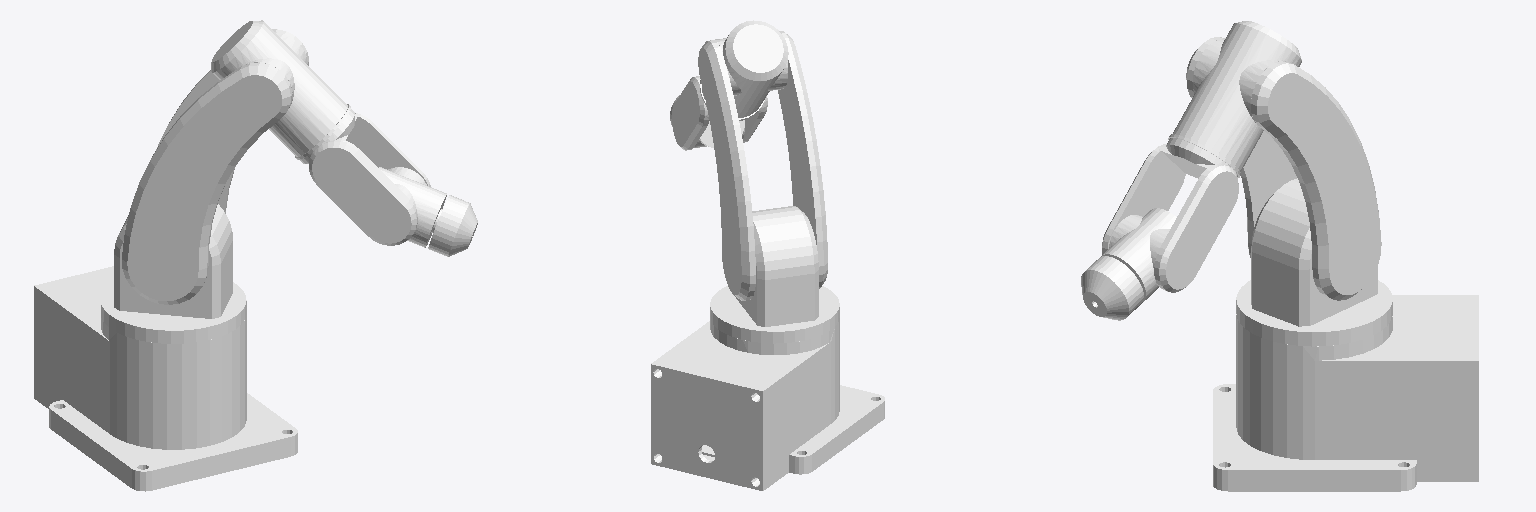
robot.urdf — ROBOT_URDF:
<?xml version="1.0" encoding="utf-8"?>
<!-- This URDF was automatically created by SolidWorks to URDF Exporter! Originally created by [author] ([email redacted]) 
     Commit Version: 1.6.0-4-g7f85cfe  Build Version: 1.6.7995.38578
     For more information, please see http://wiki.ros.org/sw_urdf_exporter -->
<robot
  name="ROBOT_URDF">
  <link
    name="base">
    <inertial>
      <origin
        xyz="1.0422E-11 0.017244 0.037691"
        rpy="0 0 0" />
      <mass
        value="0.90936" />
      <inertia
        ixx="0.0017282"
        ixy="8.0277E-15"
        ixz="-6.2768E-14"
        iyy="0.0017415"
        iyz="-0.00010385"
        izz="0.0020228" />
    </inertial>
    <visual>
      <origin
        xyz="0 0 0"
        rpy="0 0 0" />
      <geometry>
        <mesh
          filename="package://ROBOT_URDF/meshes/base.STL" />
      </geometry>
      <material
        name="">
        <color
          rgba="1 1 1 1" />
      </material>
    </visual>
    <collision>
      <origin
        xyz="0 0 0"
        rpy="0 0 0" />
      <geometry>
        <mesh
          filename="package://ROBOT_URDF/meshes/base.STL" />
      </geometry>
    </collision>
  </link>
  <link
    name="Link_2">
    <inertial>
      <origin
        xyz="7.6328E-16 2.2204E-16 -0.020342"
        rpy="0 0 0" />
      <mass
        value="0.24072" />
      <inertia
        ixx="0.00024778"
        ixy="-2.7105E-20"
        ixz="-1.1404E-19"
        iyy="0.00030718"
        iyz="-2.5065E-21"
        izz="0.00022315" />
    </inertial>
    <visual>
      <origin
        xyz="0 0 0"
        rpy="0 0 0" />
      <geometry>
        <mesh
          filename="package://ROBOT_URDF/meshes/Link_2.STL" />
      </geometry>
      <material
        name="">
        <color
          rgba="1 1 1 1" />
      </material>
    </visual>
    <collision>
      <origin
        xyz="0 0 0"
        rpy="0 0 0" />
      <geometry>
        <mesh
          filename="package://ROBOT_URDF/meshes/Link_2.STL" />
      </geometry>
    </collision>
  </link>
  <joint
    name="Joint_2"
    type="revolute">
    <origin
      xyz="0 0 0.145"
      rpy="0 0 -0.73283" />
    <parent
      link="base" />
    <child
      link="Link_2" />
    <axis
      xyz="0 0 1" />
    <limit
      lower="0"
      upper="3.142"
      effort="300"
      velocity="3" />
  </joint>
  <link
    name="link_3">
    <inertial>
      <origin
        xyz="0.02336 0 0.058621"
        rpy="0 0 0" />
      <mass
        value="0.3642" />
      <inertia
        ixx="0.0014574"
        ixy="8.6736E-19"
        ixz="-0.0005517"
        iyy="0.0015868"
        iyz="6.5052E-19"
        izz="0.00055628" />
    </inertial>
    <visual>
      <origin
        xyz="0 0 0"
        rpy="0 0 0" />
      <geometry>
        <mesh
          filename="package://ROBOT_URDF/meshes/link_3.STL" />
      </geometry>
      <material
        name="">
        <color
          rgba="1 1 1 1" />
      </material>
    </visual>
    <collision>
      <origin
        xyz="0 0 0"
        rpy="0 0 0" />
      <geometry>
        <mesh
          filename="package://ROBOT_URDF/meshes/link_3.STL" />
      </geometry>
    </collision>
  </link>
  <joint
    name="joint_3"
    type="revolute">
    <origin
      xyz="0 0 0"
      rpy="0 0 0" />
    <parent
      link="Link_2" />
    <child
      link="link_3" />
    <axis
      xyz="-0.44085 0 -0.89758" />
    <limit
      lower="-1.57"
      upper="1.57"
      effort="200"
      velocity="3" />
  </joint>
  <link
    name="link_4">
    <inertial>
      <origin
        xyz="-0.017956 -0.054327 -1.3201E-10"
        rpy="0 0 0" />
      <mass
        value="0.20146" />
      <inertia
        ixx="0.00020128"
        ixy="-3.8661E-05"
        ixz="2.4463E-11"
        iyy="9.7091E-05"
        iyz="6.9292E-13"
        izz="0.00019574" />
    </inertial>
    <visual>
      <origin
        xyz="0 0 0"
        rpy="0 0 0" />
      <geometry>
        <mesh
          filename="package://ROBOT_URDF/meshes/link_4.STL" />
      </geometry>
      <material
        name="">
        <color
          rgba="1 1 1 1" />
      </material>
    </visual>
    <collision>
      <origin
        xyz="0 0 0"
        rpy="0 0 0" />
      <geometry>
        <mesh
          filename="package://ROBOT_URDF/meshes/link_4.STL" />
      </geometry>
    </collision>
  </link>
  <joint
    name="joint_4"
    type="revolute">
    <origin
      xyz="0.066127 0 0.13464"
      rpy="1.5708 -1.1143 0" />
    <parent
      link="link_3" />
    <child
      link="link_4" />
    <axis
      xyz="0 0 -1" />
    <limit
      lower="0"
      upper="3.142"
      effort="200"
      velocity="3" />
  </joint>
  <link
    name="link_5">
    <inertial>
      <origin
        xyz="0.0252610664447827 -1.32936071206569E-07 6.91875431391153E-08"
        rpy="0 0 0" />
      <mass
        value="0.0578721071106408" />
      <inertia
        ixx="1.2416264581196E-05"
        ixy="-4.4449230122531E-11"
        ixz="9.64146459424786E-11"
        iyy="1.55457728243409E-05"
        iyz="-1.96601989915467E-10"
        izz="1.71122120219284E-05" />
    </inertial>
    <visual>
      <origin
        xyz="0 0 0"
        rpy="0 0 0" />
      <geometry>
        <mesh
          filename="package://ROBOT_URDF/meshes/link_5.STL" />
      </geometry>
      <material
        name="">
        <color
          rgba="1 1 1 1" />
      </material>
    </visual>
    <collision>
      <origin
        xyz="0 0 0"
        rpy="0 0 0" />
      <geometry>
        <mesh
          filename="package://ROBOT_URDF/meshes/link_5.STL" />
      </geometry>
    </collision>
  </link>
  <joint
    name="joint_5"
    type="revolute">
    <origin
      xyz="-0.039228 -0.11869 0"
      rpy="0 0 -1.4397" />
    <parent
      link="link_4" />
    <child
      link="link_5" />
    <axis
      xyz="0.9003 -0.43527 0" />
    <limit
      lower="0"
      upper="-3.142"
      effort="200"
      velocity="3" />
  </joint>
</robot>

--- Render facts (derived) ---
3 views of the same robot in one strip: view 1: azimuth 30°, elevation 25°; view 2: azimuth 150°, elevation 25°; view 3: azimuth 270°, elevation 25° (orthographic).
Robot: ROBOT_URDF — 5 links, 4 joints (4 revolute); root link base; default pose: all joints at 0.
Links seen in each view (by area): view 1: base, link_3, link_4, Link_2, link_5; view 2: base, link_3, Link_2, link_4; view 3: base, link_3, link_4, Link_2, link_5.
Link boxes in pixels (x1,y1,x2,y2): base: (34, 266, 297, 491); link_3: (122, 29, 308, 304); link_4: (211, 20, 430, 245); Link_2: (101, 204, 246, 343); link_5: (379, 167, 477, 256); base: (651, 318, 884, 490); link_3: (698, 31, 827, 300); Link_2: (710, 206, 839, 343); link_4: (672, 20, 788, 150); base: (1213, 295, 1478, 491); link_3: (1186, 37, 1381, 300); link_4: (1102, 21, 1301, 292); Link_2: (1236, 178, 1392, 346); link_5: (1081, 208, 1176, 320).
Bounding box of the posed robot: 0.2278 × 0.2542 × 0.3184 m (x, y, z).
Meshes: 5 distinct files referenced, 5 mesh visuals loaded (5 binary STL).